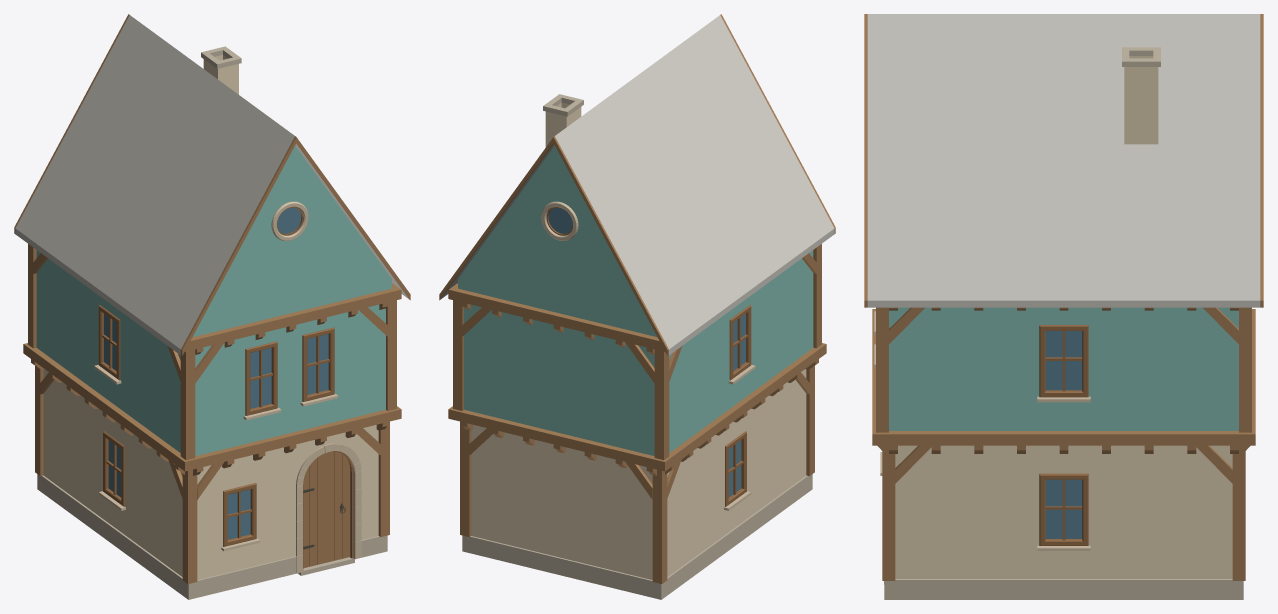
File: Casa-de-la-Espiga.glb
The picture shows the model from 3 angles, left to right: view 1: azimuth 30°, elevation 25°; view 2: azimuth 150°, elevation 25°; view 3: azimuth 270°, elevation 25°; orthographic projection. The views are drawn at different scales.
Parts seen in each view (by area): view 1: Faldón · izquierdo, Frente · alta, Izquierda · baja, Izquierda · alta, Frente · baja, Puerta · hoja y herrajes, Entrepiso · Frente, Alero · Frente, Zócalo · Izquierda, Puerta · cerco de arco, Entrepiso · Izquierda, Ventana · frente alta izquierda (+17 smaller); view 2: Faldón · izquierdo, Fondo · alta, Fondo · baja, Izquierda · baja, Izquierda · alta, Zócalo · Fondo, Entrepiso · Fondo, Alero · Fondo, Zócalo · Izquierda, Entrepiso · Izquierda, Poste · 1.001, Poste · 2.001 (+12 smaller); view 3: Faldón · derecho, Derecha · baja, Derecha · alta, Zócalo · Derecha, Entrepiso · Derecha, Ventana · derecha alta, Ventana · derecha baja, Chimenea, Poste · 1.002, Poste · 1.003, Poste · 2.002, Poste · 2.003 (+3 smaller).
Boxes of the visible parts, x1=… form: Faldón · izquierdo: x1=15, y1=15, x2=294, y2=355; Frente · alta: x1=193, y1=146, x2=391, y2=455; Izquierda · baja: x1=45, y1=369, x2=182, y2=576; Izquierda · alta: x1=38, y1=251, x2=180, y2=452; Frente · baja: x1=197, y1=425, x2=378, y2=579; Puerta · hoja y herrajes: x1=303, y1=451, x2=350, y2=568; Entrepiso · Frente: x1=185, y1=409, x2=401, y2=471; Alero · Frente: x1=185, y1=288, x2=401, y2=351; Zócalo · Izquierda: x1=38, y1=475, x2=187, y2=598; Puerta · cerco de arco: x1=296, y1=443, x2=361, y2=573; Entrepiso · Izquierda: x1=23, y1=344, x2=185, y2=471; Ventana · frente alta izquierda: x1=243, y1=341, x2=281, y2=420; Faldón · izquierdo: x1=555, y1=15, x2=834, y2=355; Fondo · alta: x1=458, y1=146, x2=656, y2=455; Fondo · baja: x1=471, y1=425, x2=652, y2=579; Izquierda · baja: x1=667, y1=369, x2=804, y2=576; Izquierda · alta: x1=669, y1=251, x2=811, y2=452; Zócalo · Fondo: x1=462, y1=535, x2=662, y2=599; Entrepiso · Fondo: x1=448, y1=409, x2=664, y2=471; Alero · Fondo: x1=448, y1=288, x2=664, y2=351; Zócalo · Izquierda: x1=662, y1=475, x2=811, y2=598; Entrepiso · Izquierda: x1=664, y1=344, x2=826, y2=471; Poste · 1.001: x1=652, y1=469, x2=667, y2=583; Poste · 2.001: x1=654, y1=349, x2=669, y2=460; Faldón · derecho: x1=867, y1=14, x2=1260, y2=307; Derecha · baja: x1=899, y1=445, x2=1228, y2=578; Derecha · alta: x1=893, y1=307, x2=1234, y2=430; Zócalo · Derecha: x1=886, y1=579, x2=1241, y2=599; Entrepiso · Derecha: x1=872, y1=431, x2=1255, y2=445; Ventana · derecha alta: x1=1037, y1=325, x2=1090, y2=402; Ventana · derecha baja: x1=1037, y1=473, x2=1090, y2=550; Chimenea: x1=1124, y1=56, x2=1158, y2=144; Poste · 1.002: x1=882, y1=445, x2=895, y2=580; Poste · 1.003: x1=1232, y1=445, x2=1245, y2=580; Poste · 2.002: x1=876, y1=307, x2=888, y2=432; Poste · 2.003: x1=1239, y1=307, x2=1251, y2=432.
Bounding box in the file's own units: 4.58 × 8.6 × 5.83.
